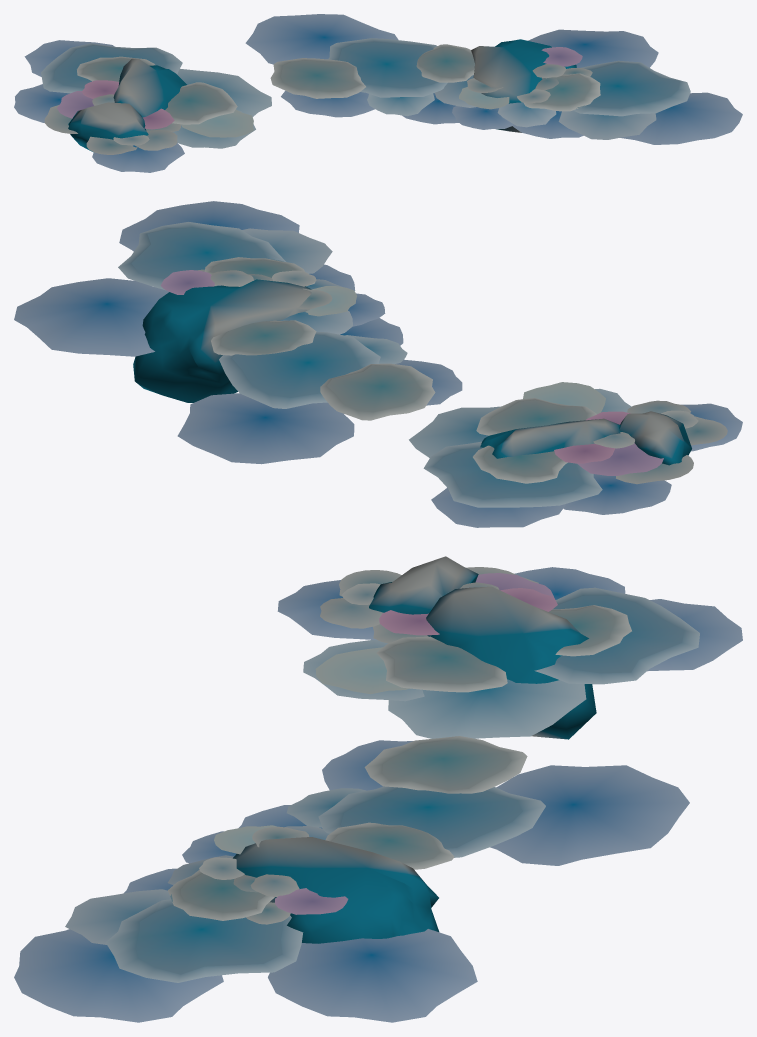
The picture shows the model from 3 angles, top to bottom: view 1: azimuth 30°, elevation 25°; view 2: azimuth 150°, elevation 25°; view 3: azimuth 270°, elevation 25°; orthographic projection. The views are drawn at different scales.
Visible parts, largest first — view 1: G:\FFXIV-MapTools\exports\s1f3\bg\ffxiv\sea_s1\fld\s1f3\bgpa (×2); view 2: G:\FFXIV-MapTools\exports\s1f3\bg\ffxiv\sea_s1\fld\s1f3\bgpa (×2); view 3: G:\FFXIV-MapTools\exports\s1f3\bg\ffxiv\sea_s1\fld\s1f3\bgpa (×2).
Boxes of the visible parts, x1,y1,x2,y2 form: G:\FFXIV-MapTools\exports\s1f3\bg\ffxiv\sea_s1\fld\s1f3\bgpa (×2): (14, 14, 742, 172); G:\FFXIV-MapTools\exports\s1f3\bg\ffxiv\sea_s1\fld\s1f3\bgpa (×2): (14, 201, 742, 527); G:\FFXIV-MapTools\exports\s1f3\bg\ffxiv\sea_s1\fld\s1f3\bgpa (×2): (14, 556, 742, 1022).
Size of the model in its own units: 133 by 21.26 by 97.81.
